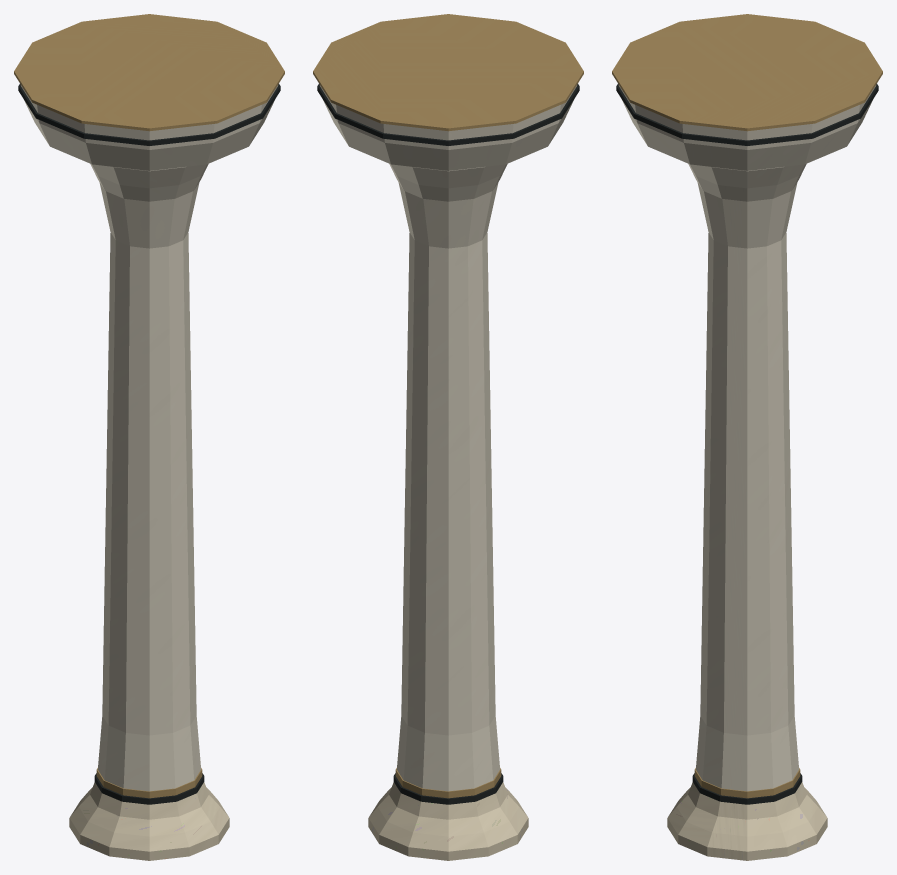
The model's file is AST-STR-001.glb.
3 views of the same model, side by side, from view 1: azimuth 30°, elevation 25°; view 2: azimuth 150°, elevation 25°; view 3: azimuth 270°, elevation 25° (orthographic).
Parts seen in each view (by area): view 1: STR_TaperedShaft, STR_CeilingBearing, STR_Capital, STR_StoneFoot, STR_CapitalShadow, STR_LowerMetalBand, STR_BaseReveal; view 2: STR_TaperedShaft, STR_CeilingBearing, STR_Capital, STR_StoneFoot, STR_CapitalShadow, STR_LowerMetalBand, STR_BaseReveal; view 3: STR_TaperedShaft, STR_CeilingBearing, STR_Capital, STR_StoneFoot, STR_CapitalShadow, STR_LowerMetalBand, STR_BaseReveal.
Part boxes in pixels (x1=…): STR_TaperedShaft: x1=97, y1=182, x2=201, y2=791; STR_CeilingBearing: x1=14, y1=14, x2=284, y2=131; STR_Capital: x1=20, y1=85, x2=278, y2=201; STR_StoneFoot: x1=69, y1=782, x2=229, y2=860; STR_CapitalShadow: x1=18, y1=84, x2=280, y2=145; STR_LowerMetalBand: x1=96, y1=768, x2=202, y2=798; STR_BaseReveal: x1=94, y1=773, x2=204, y2=804; STR_TaperedShaft: x1=396, y1=182, x2=500, y2=791; STR_CeilingBearing: x1=313, y1=14, x2=583, y2=131; STR_Capital: x1=319, y1=85, x2=577, y2=201; STR_StoneFoot: x1=368, y1=782, x2=528, y2=860; STR_CapitalShadow: x1=317, y1=84, x2=579, y2=145; STR_LowerMetalBand: x1=395, y1=768, x2=501, y2=798; STR_BaseReveal: x1=393, y1=773, x2=503, y2=804; STR_TaperedShaft: x1=695, y1=182, x2=799, y2=791; STR_CeilingBearing: x1=612, y1=14, x2=882, y2=131; STR_Capital: x1=618, y1=85, x2=876, y2=201; STR_StoneFoot: x1=667, y1=782, x2=827, y2=860; STR_CapitalShadow: x1=616, y1=84, x2=878, y2=145; STR_LowerMetalBand: x1=694, y1=768, x2=800, y2=798; STR_BaseReveal: x1=692, y1=773, x2=802, y2=804.
Size of the model in its own units: 2.64 by 8.13 by 2.64.
5 materials, 4 textured.
